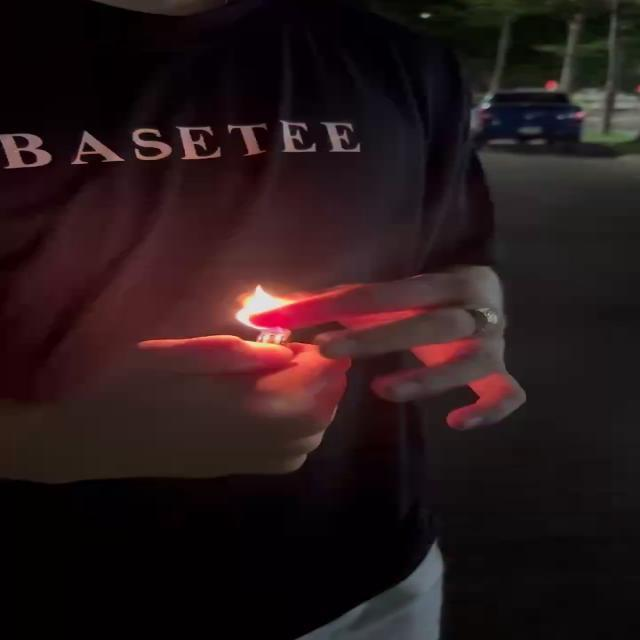Fire: (242, 296, 310, 340)
